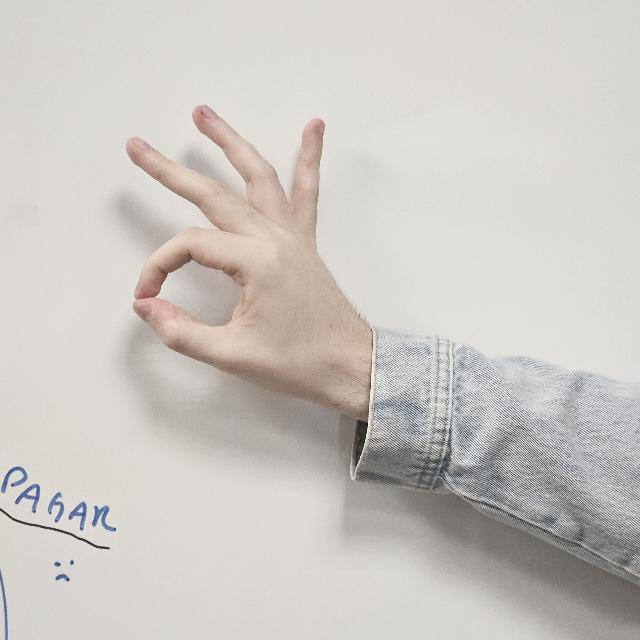Bolinha: (103, 90, 373, 450)
